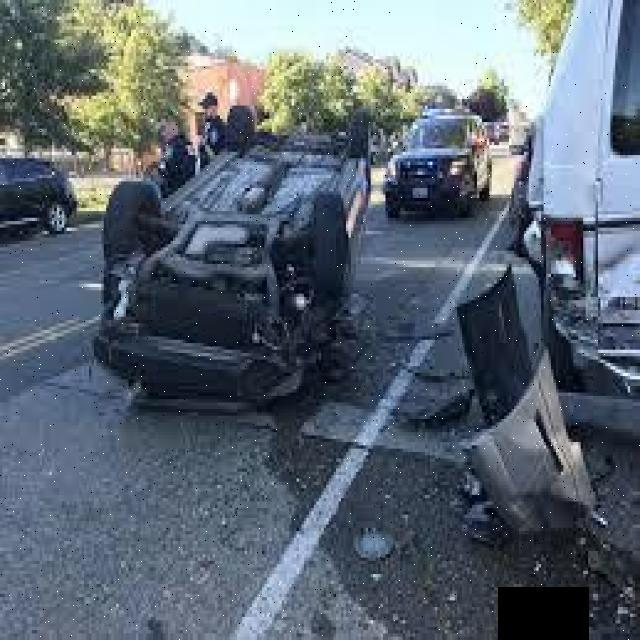severe: (90, 101, 377, 417)
